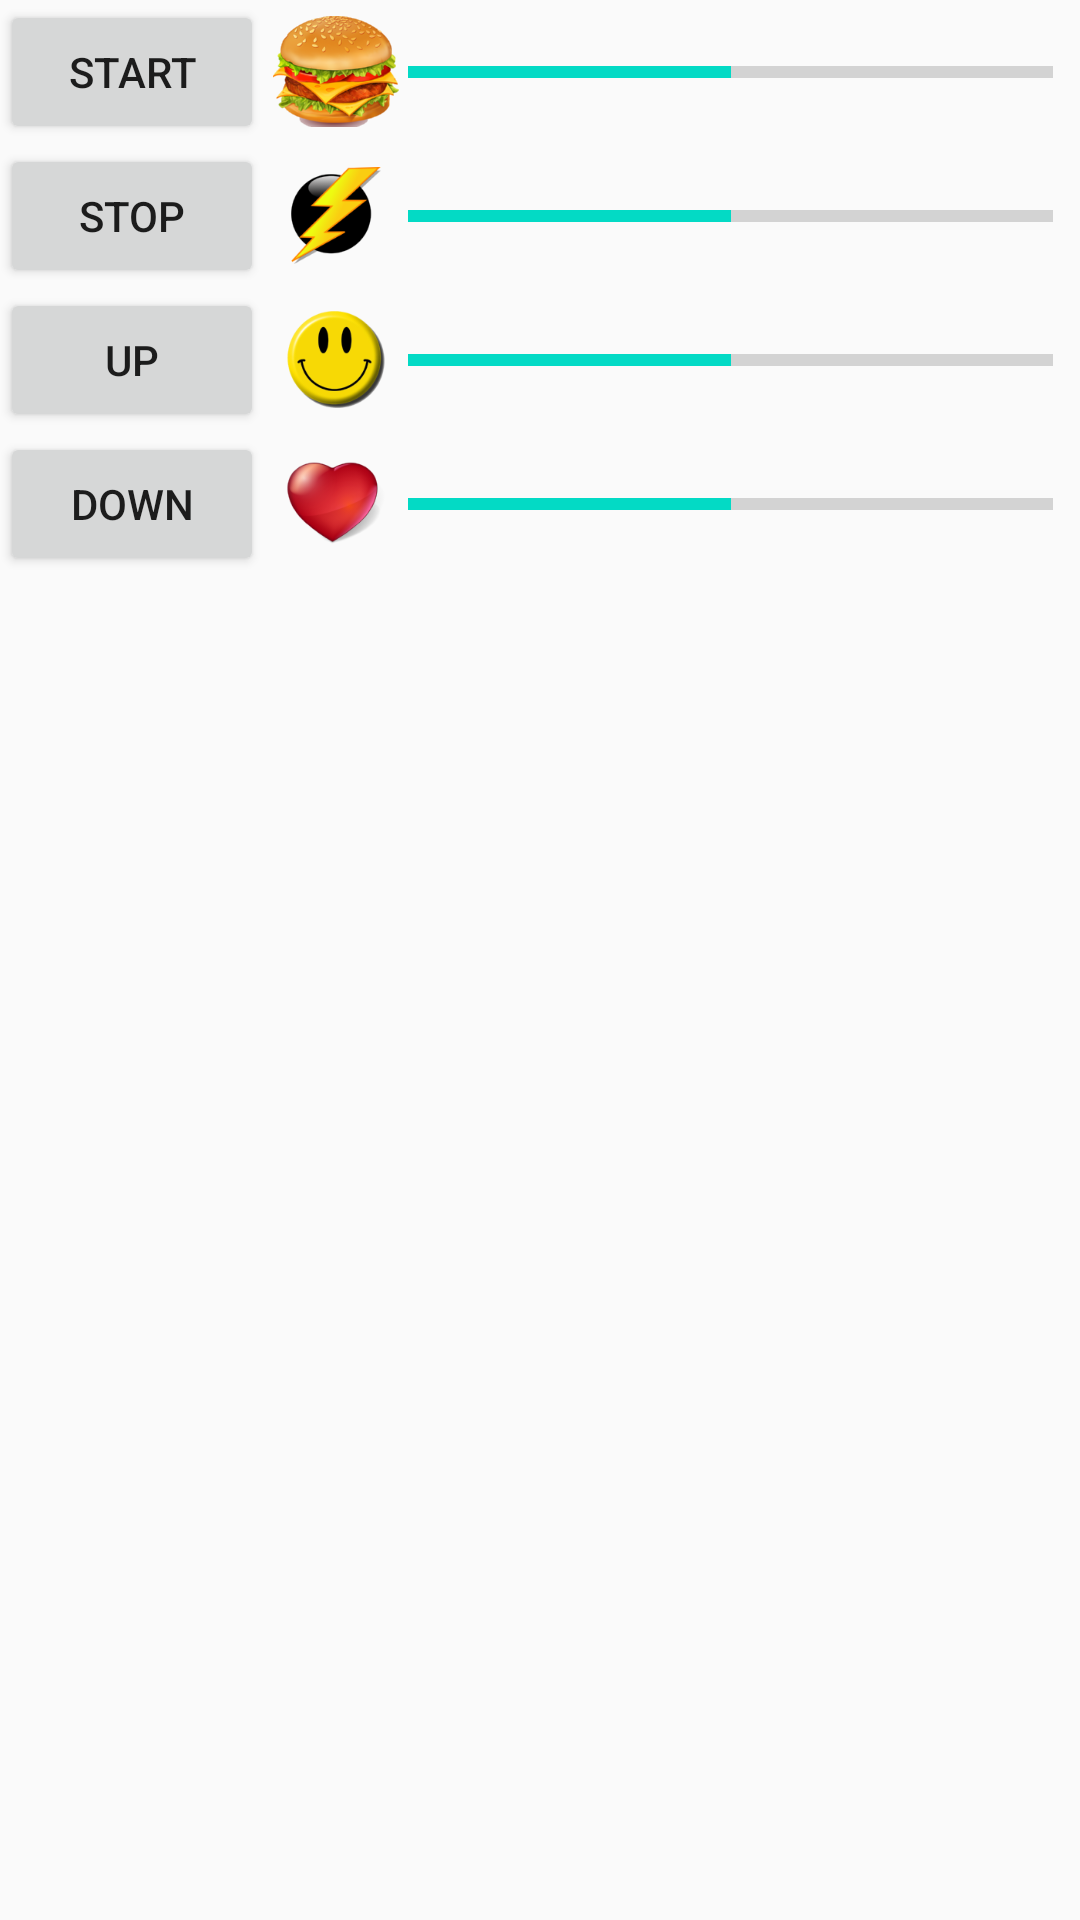

Where icons sit on this 1080px x 1920px app screen, as (x1, y1, x2, y2):
energy: (291, 167, 381, 263)
happiness: (287, 311, 385, 408)
health: (287, 462, 378, 543)
hunger: (273, 16, 399, 127)
